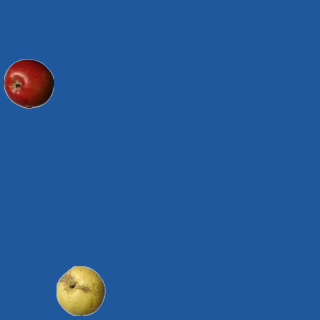Apple Braeburn: (3, 58, 53, 108)
Apple Golden 1: (55, 265, 105, 315)
